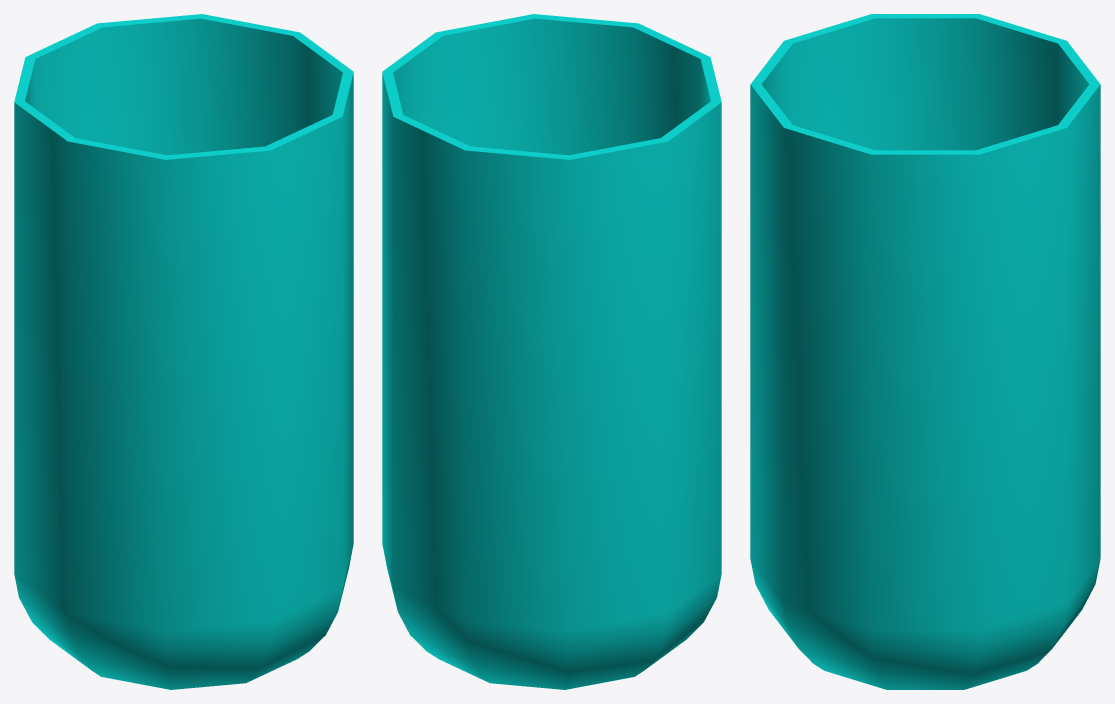
File: Beaker3.fbx
3 renders of one model, left to right at view 1: azimuth 30°, elevation 25°; view 2: azimuth 150°, elevation 25°; view 3: azimuth 270°, elevation 25°, orthographic.
Parts seen in each view (by area): view 1: Cylinder.125; view 2: Cylinder.125; view 3: Cylinder.125.
Boxes of the visible parts, <box> form: Cylinder.125: <box>14,14,353,689</box>; Cylinder.125: <box>382,14,721,689</box>; Cylinder.125: <box>750,14,1100,689</box>.
Size of the model in its own units: 0.123 by 0.2265 by 0.1294.
